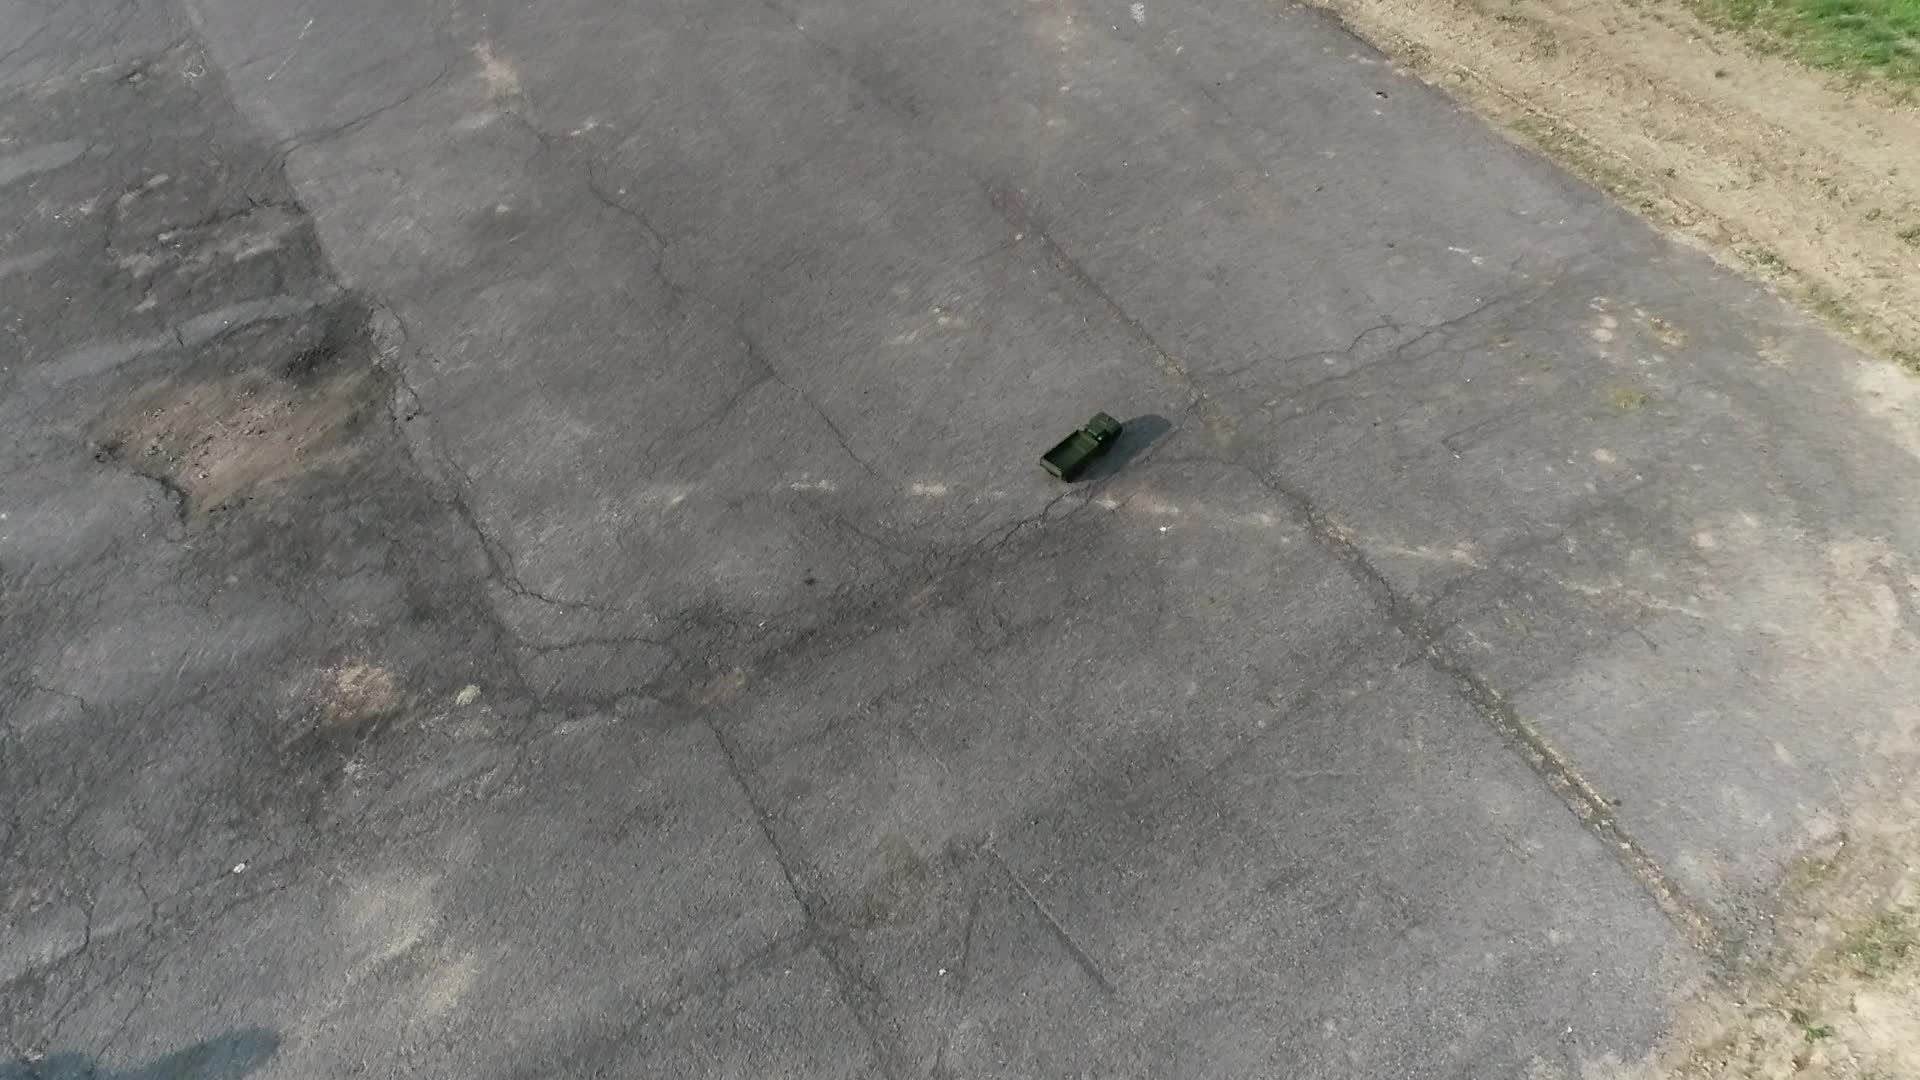transporter9: (1034, 410, 1127, 487)
